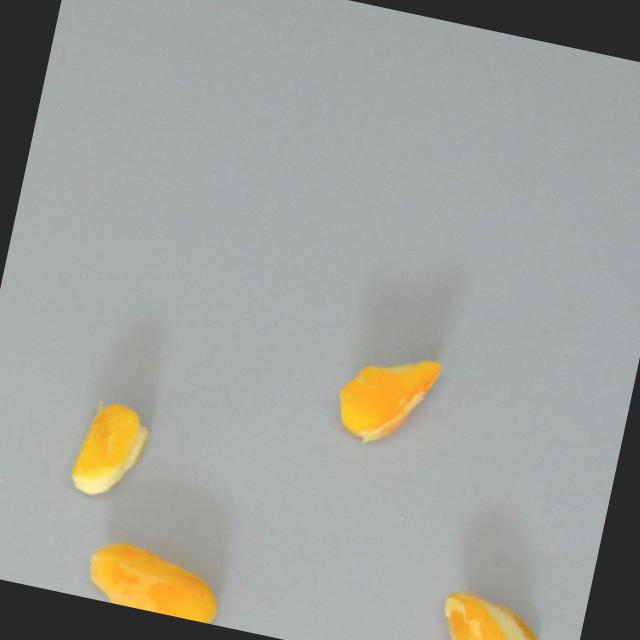estandar: (81, 535, 227, 625)
pelicula: (327, 341, 446, 454), (66, 392, 155, 503), (435, 585, 548, 640)
